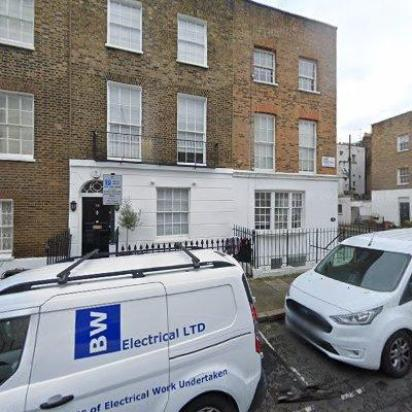stationary-light-truck-onstreet: (0, 242, 268, 412), (282, 226, 412, 380)
